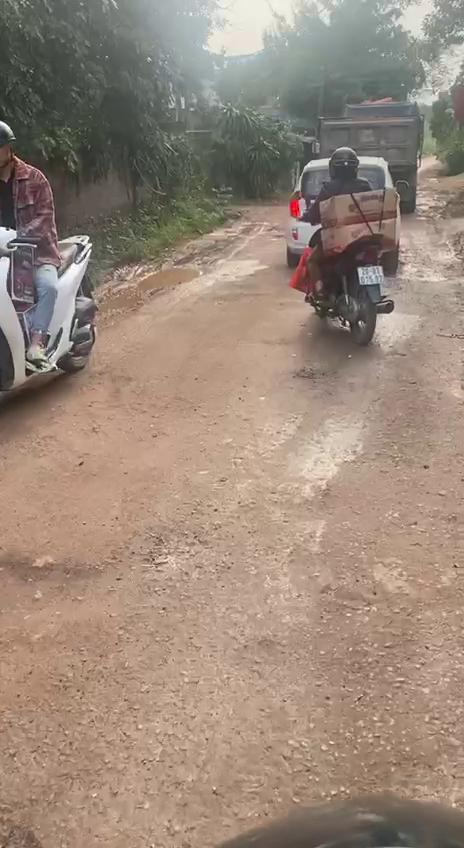pothole: (0, 525, 207, 648)
